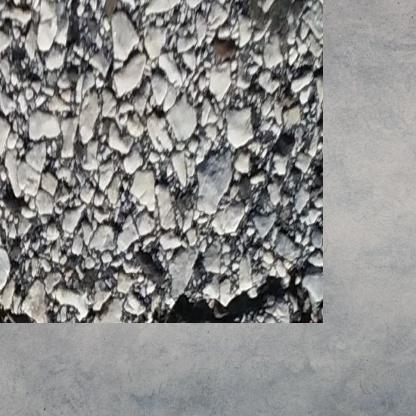Cracks: (144, 256, 299, 299), (0, 276, 31, 299)
